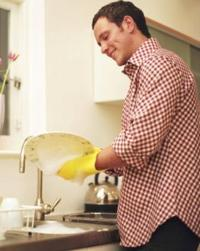person: (58, 1, 200, 251)
